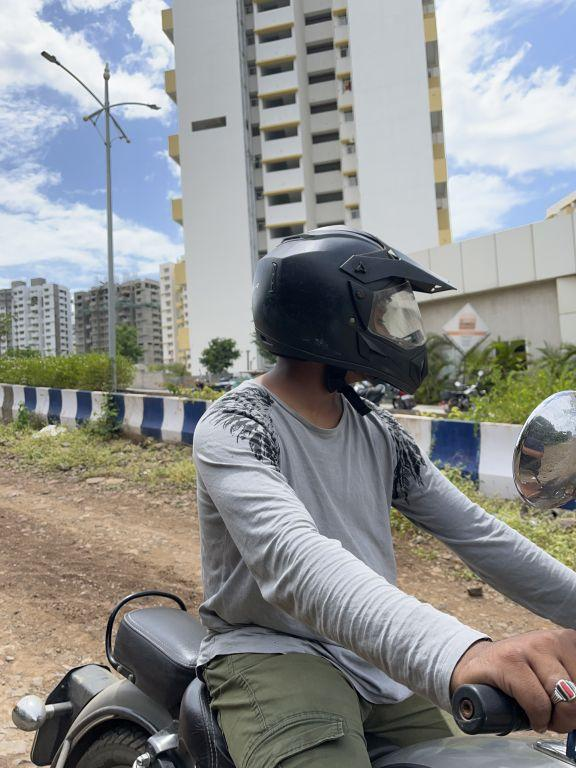helmet: (240, 210, 457, 415)
